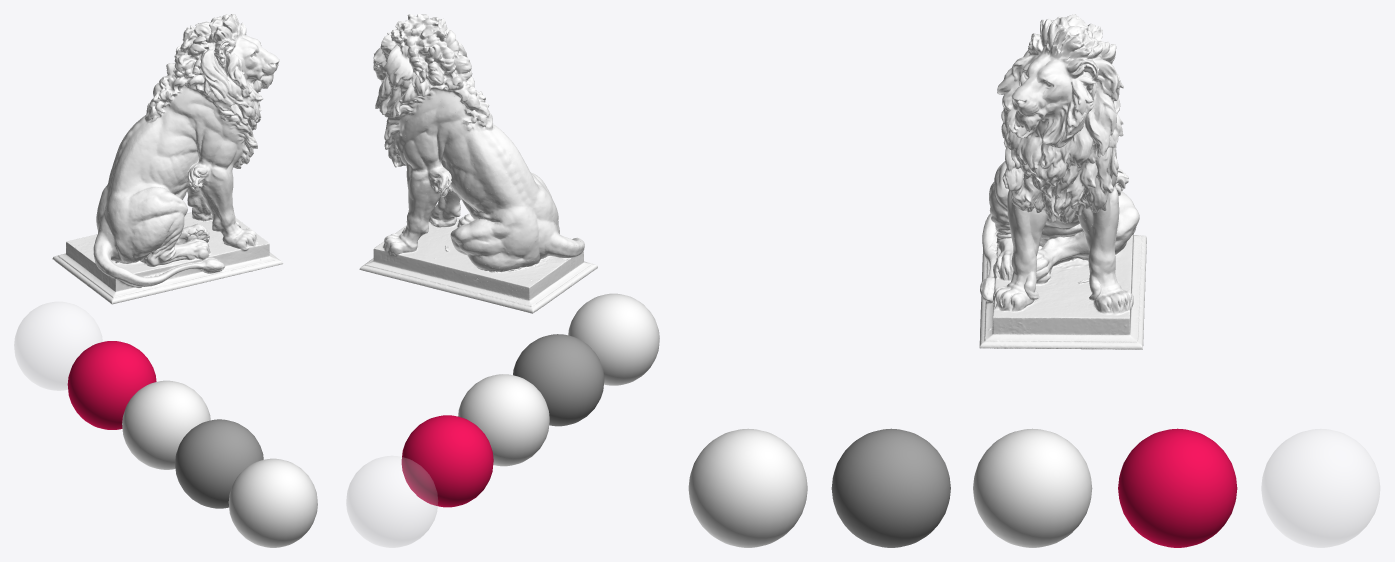
The model's file is materials-high.glb.
The picture shows the model from 3 angles, left to right: view 1: azimuth 30°, elevation 25°; view 2: azimuth 150°, elevation 25°; view 3: azimuth 270°, elevation 25°; orthographic projection. The views are drawn at different scales.
Parts seen in each view (by area): view 1: Object_3.001, Object_2.001, Object_6.001, Sphere1, Sphere5, Sphere3, Sphere4, Sphere2, Object_5.001, Object_4.001; view 2: Object_3.001, Object_4.001, Object_5.001, Object_6.001, Sphere5, Sphere2, Sphere4, Sphere1, Sphere3, Object_2.001; view 3: Object_4.001, Object_6.001, Sphere4, Sphere3, Sphere5, Sphere1, Sphere2, Object_2.001, Object_5.001, Object_3.001.
Part boxes in pixels (x1,y1,x2,y2): Object_3.001: (69,73,283,304); Object_2.001: (52,164,277,303); Object_6.001: (132,14,279,289); Sphere1: (228,458,317,547); Sphere5: (67,341,156,429); Sphere3: (175,419,263,508); Sphere4: (122,380,210,469); Sphere2: (14,302,102,390); Object_5.001: (53,56,269,301); Object_4.001: (80,89,260,301); Object_3.001: (359,92,593,305); Object_4.001: (360,94,597,300); Object_5.001: (375,76,593,311); Object_6.001: (373,14,489,226); Sphere5: (401,415,493,507); Sphere2: (346,456,437,547); Sphere4: (458,374,549,466); Sphere1: (568,293,659,385); Sphere3: (513,334,604,426); Object_2.001: (396,136,597,313); Object_4.001: (981,96,1145,347); Object_6.001: (980,14,1123,347); Sphere4: (973,428,1092,547); Sphere3: (831,428,950,547); Sphere5: (1118,428,1237,547); Sphere1: (688,428,807,547); Sphere2: (1261,429,1379,547); Object_2.001: (980,164,1146,340); Object_5.001: (982,57,1146,332); Object_3.001: (979,161,1145,349).
Bounding box in the file's own units: 0.1182 × 0.2614 × 0.29.
